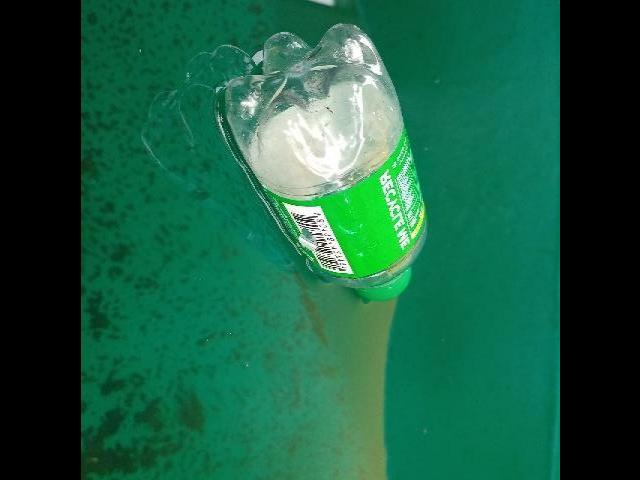Bottle: (214, 22, 426, 304)
